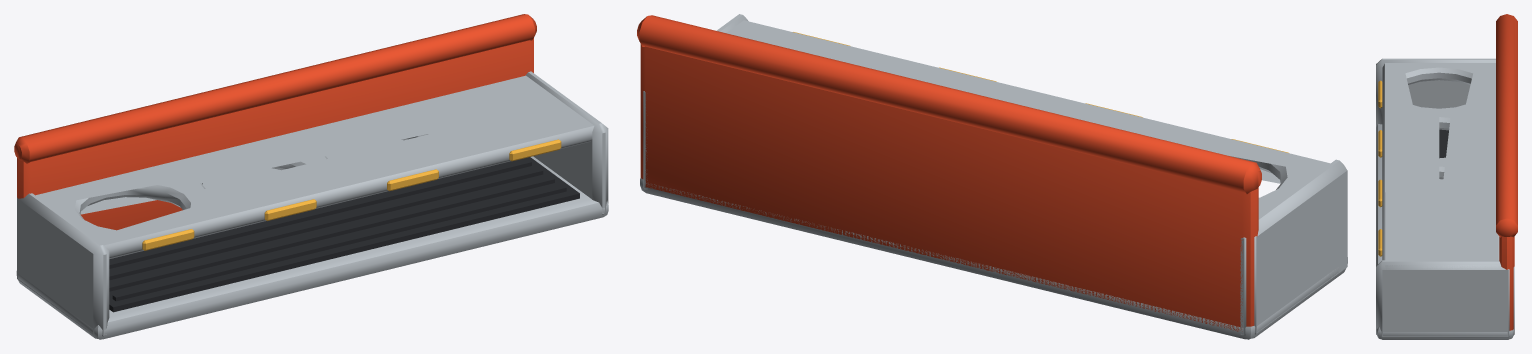
The model's file is Kitchen_SauceRail.fbx.
3 renders of one model, left to right at view 1: azimuth 30°, elevation 25°; view 2: azimuth 150°, elevation 25°; view 3: azimuth 270°, elevation 25°, orthographic. The views are drawn at different scales.
Visible parts, largest first — view 1: Caddy, Riser, Mat, Tab4, Tab1, Tab2, Tab3; view 2: Riser, Caddy; view 3: Caddy, Riser, Mat, Tab2, Tab3, Tab4, Tab1.
Boxes of the visible parts, <box> form: Caddy: <box>16,71,608,339</box>; Riser: <box>14,14,536,230</box>; Mat: <box>109,157,579,312</box>; Tab4: <box>509,139,561,161</box>; Tab1: <box>142,229,194,250</box>; Tab2: <box>264,199,316,220</box>; Tab3: <box>387,169,438,191</box>; Riser: <box>637,15,1261,331</box>; Caddy: <box>640,14,1347,339</box>; Caddy: <box>1376,58,1514,339</box>; Riser: <box>1496,14,1517,330</box>; Mat: <box>1439,129,1448,158</box>; Tab2: <box>1378,130,1382,157</box>; Tab3: <box>1378,179,1382,207</box>; Tab4: <box>1378,229,1382,256</box>; Tab1: <box>1378,80,1382,108</box>.
Bounding box in the file's own units: 320 × 87.5 × 92.13.
